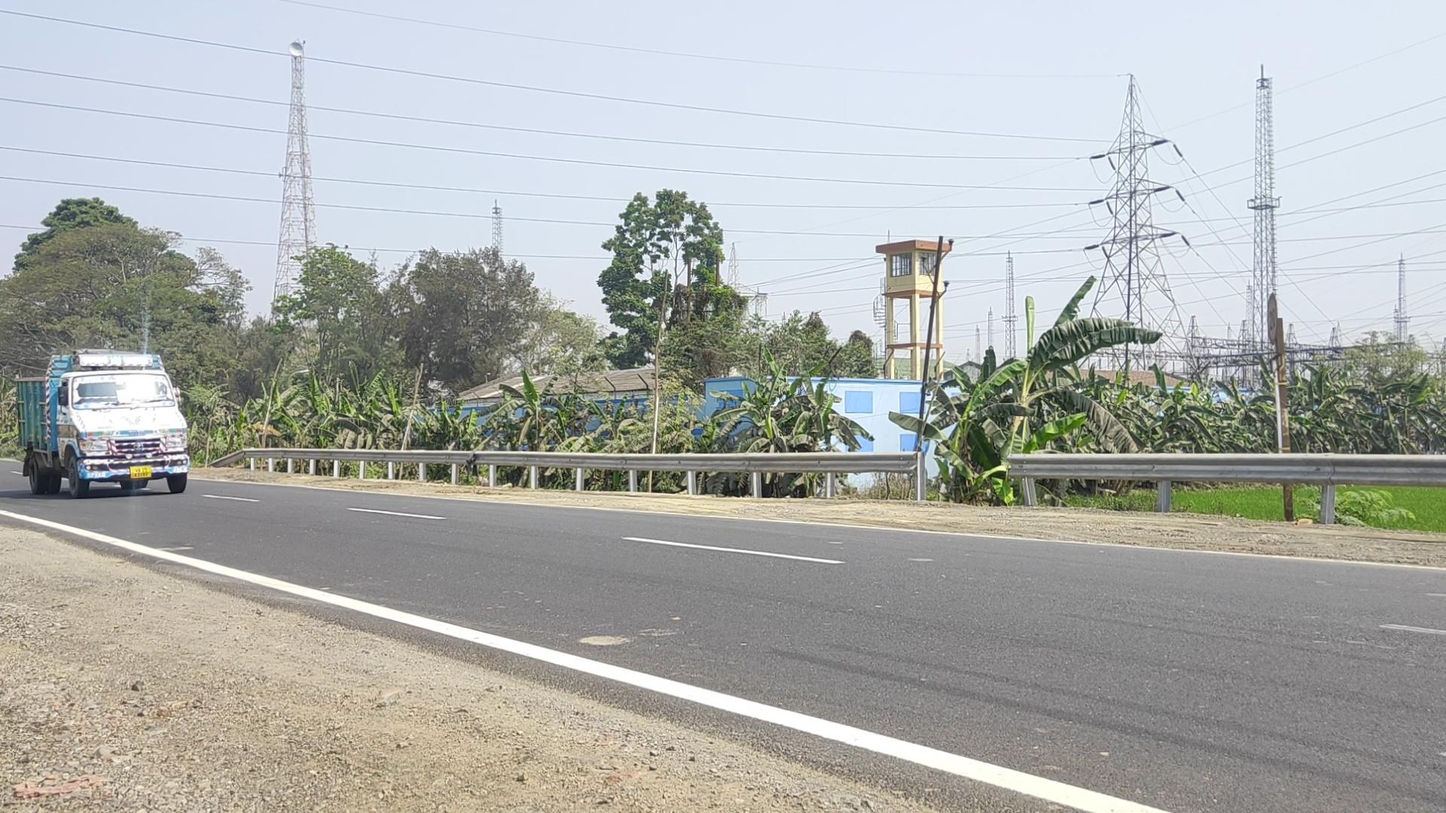truck: (12, 349, 190, 500)
